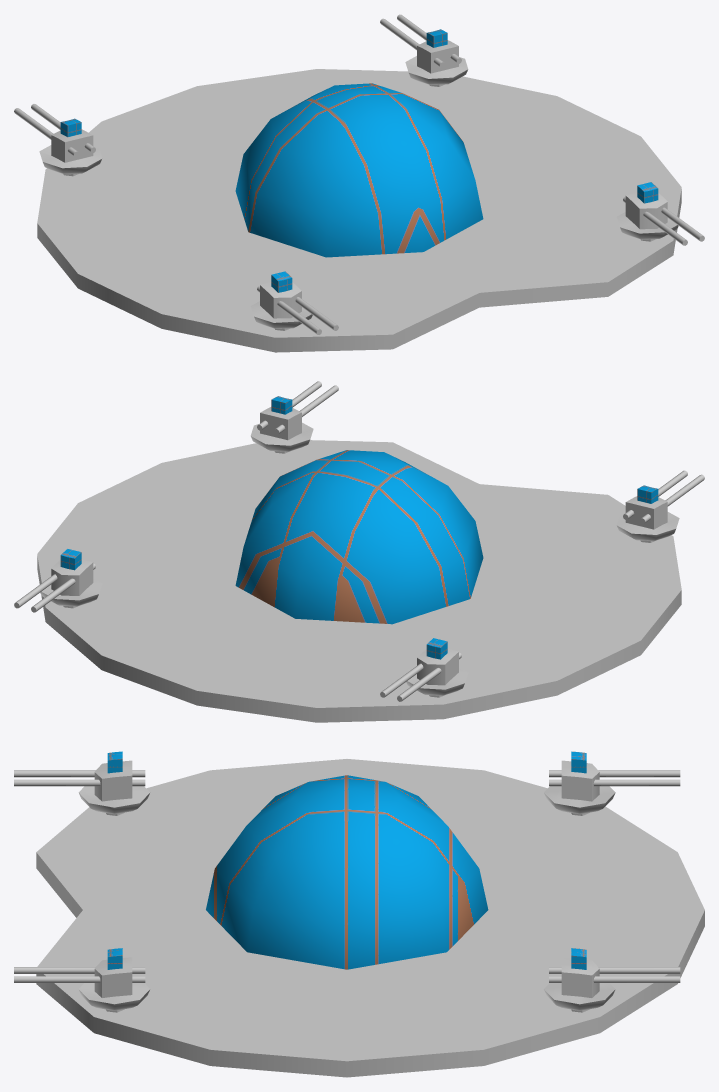
Rendered from Vaisseau.fbx.
3 renders of one model, top to bottom at view 1: azimuth 30°, elevation 25°; view 2: azimuth 150°, elevation 25°; view 3: azimuth 270°, elevation 25°, orthographic. The views are drawn at different scales.
Visible parts, largest first — view 1: BaseVaisseau_1, BaseVaisseau_2, Canon_1, Canon_2, Canon_3, Canon_4; view 2: BaseVaisseau_1, BaseVaisseau_2, Canon_4, Canon_3, Canon_2, Canon_1; view 3: BaseVaisseau_1, BaseVaisseau_2, Canon_1, Canon_4, Canon_2, Canon_3.
Part boxes in pixels (left/top/right/bottom): BaseVaisseau_1: left=37, top=69, right=681, bottom=352; BaseVaisseau_2: left=235, top=83, right=483, bottom=257; Canon_1: left=14, top=104, right=102, bottom=174; Canon_2: left=380, top=14, right=468, bottom=85; Canon_3: left=616, top=182, right=704, bottom=245; Canon_4: left=250, top=271, right=338, bottom=334; BaseVaisseau_1: left=37, top=440, right=681, bottom=722; BaseVaisseau_2: left=235, top=450, right=483, bottom=624; Canon_4: left=616, top=470, right=704, bottom=541; Canon_3: left=250, top=381, right=338, bottom=451; Canon_2: left=14, top=549, right=102, bottom=612; Canon_1: left=380, top=638, right=467, bottom=701; BaseVaisseau_1: left=36, top=759, right=704, bottom=1077; BaseVaisseau_2: left=206, top=775, right=488, bottom=969; Canon_1: left=544, top=751, right=680, bottom=814; Canon_4: left=14, top=751, right=150, bottom=814; Canon_2: left=544, top=948, right=680, bottom=1010; Canon_3: left=14, top=948, right=150, bottom=1010.
Size of the model in its own units: 40 by 12.72 by 38.61.
